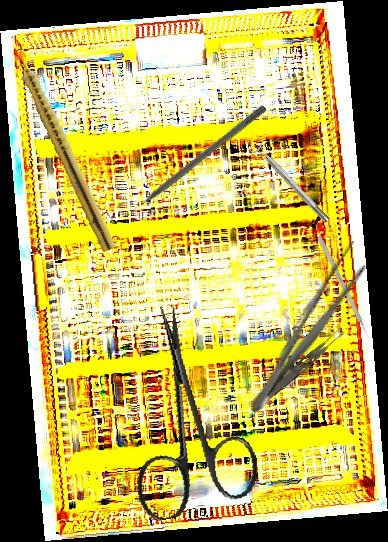Dressing Forceps: (240, 237, 375, 421), (255, 324, 347, 412)
Fixation Ring: (246, 136, 334, 228)
Handpiece: (8, 42, 121, 253)
Hook Surgical: (317, 235, 372, 342)
Iris Scissors: (104, 294, 264, 524)
Pusher: (122, 102, 268, 220)
